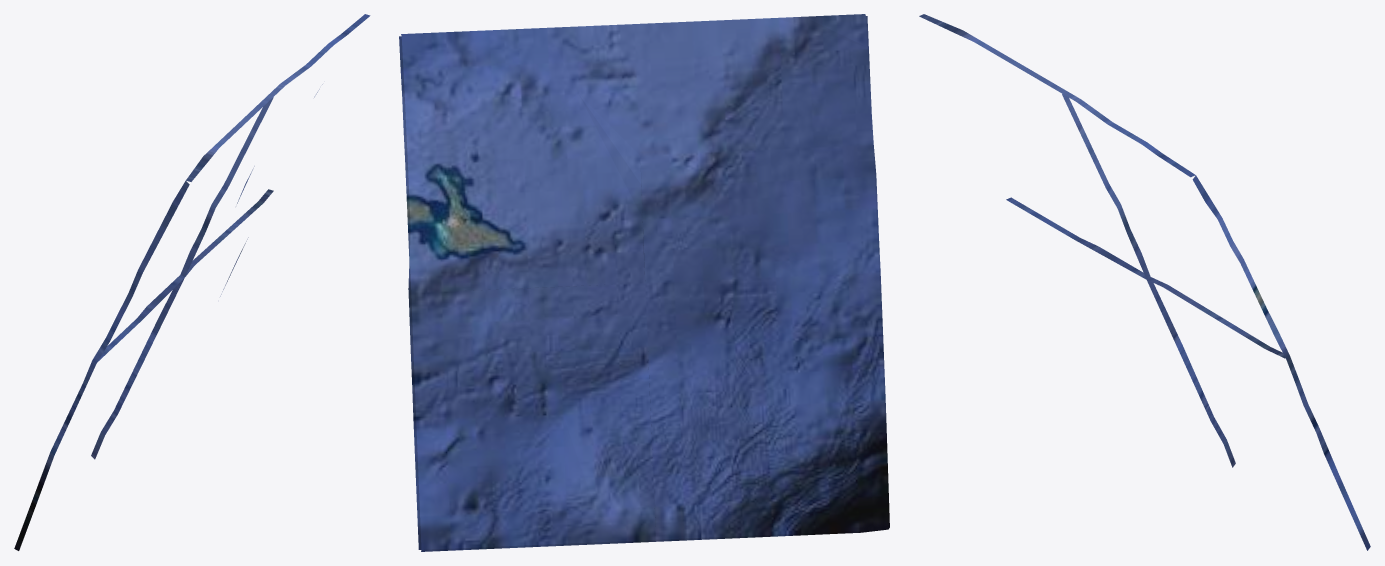
3 views of the same model, side by side, from view 1: azimuth 30°, elevation 25°; view 2: azimuth 150°, elevation 25°; view 3: azimuth 270°, elevation 25° (orthographic). The views are drawn at different scales.
Size of the model in its own units: 153314 by 146076 by 137722.
Materials: 1 (1 with a texture image).
